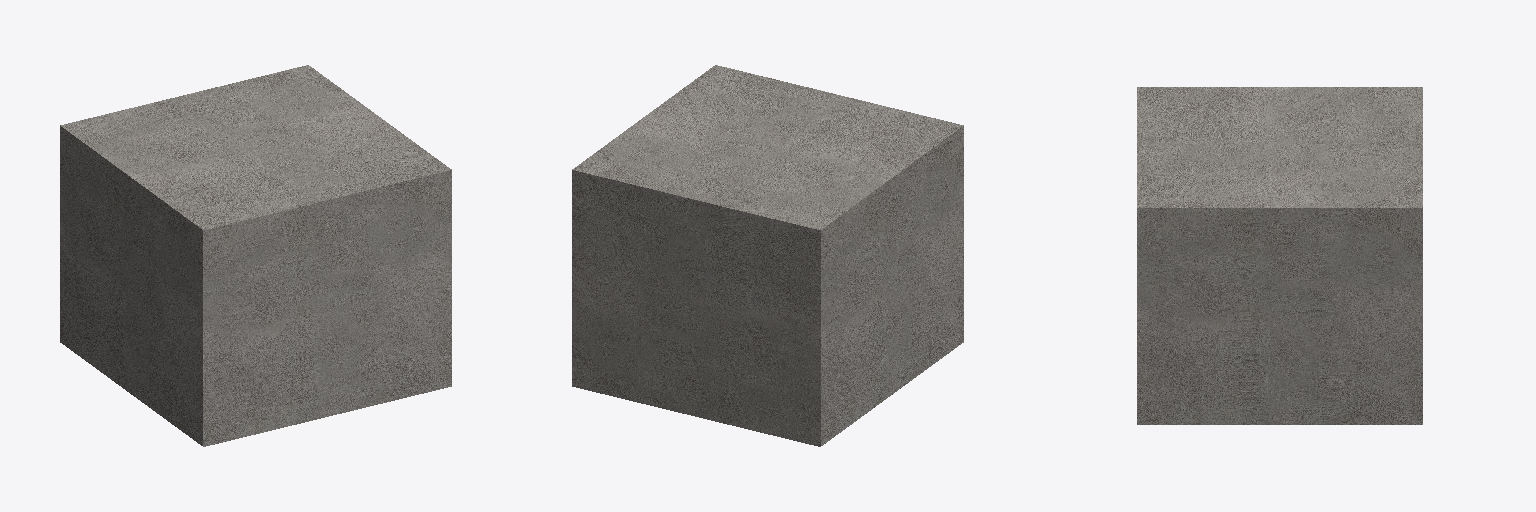
The picture shows the model from 3 angles: view 1: azimuth 30°, elevation 25°; view 2: azimuth 150°, elevation 25°; view 3: azimuth 270°, elevation 25°; orthographic projection.
Parts seen in each view (by area): view 1: 3x3x2,5; view 2: 3x3x2,5; view 3: 3x3x2,5.
Boxes of the visible parts, <box> form: 3x3x2,5: <box>60,65,451,446</box>; 3x3x2,5: <box>572,65,963,446</box>; 3x3x2,5: <box>1137,87,1422,424</box>.
Bounding box in the file's own units: 3 × 2.5 × 3.
Materials: 1 (1 with a texture image).